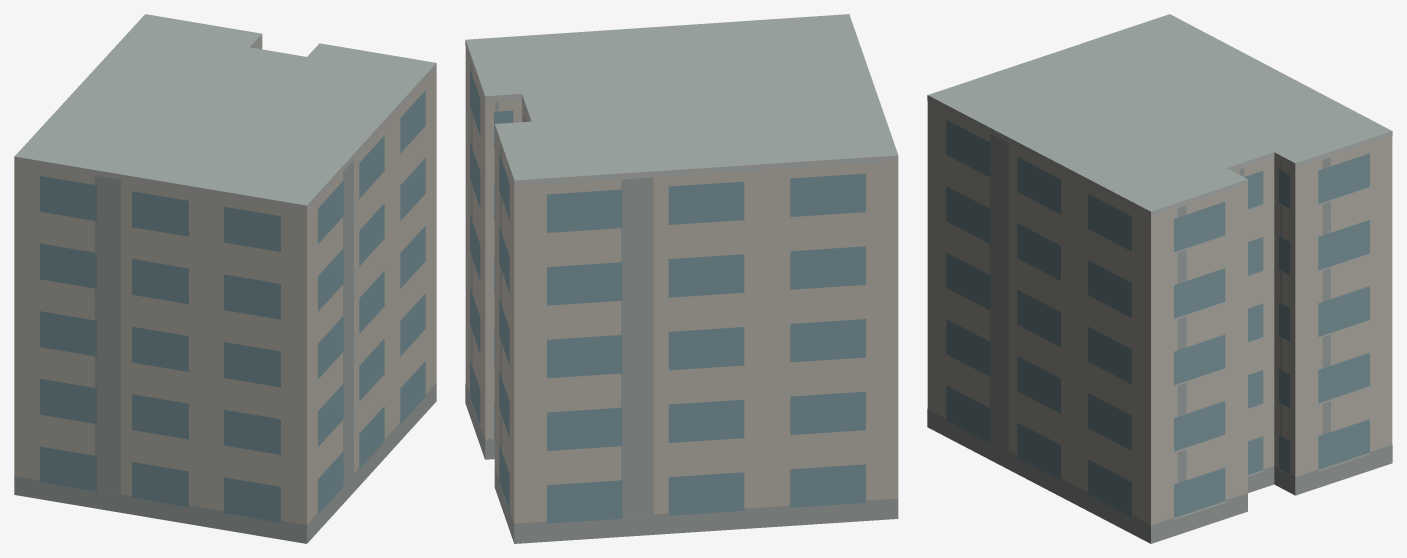
Rendered from survey-upis-32780488.glb.
3 renders of one model, left to right at view 1: azimuth 30°, elevation 25°; view 2: azimuth 150°, elevation 25°; view 3: azimuth 270°, elevation 25°, orthographic. The views are drawn at different scales.
Visible parts, largest first — view 1: survey-upis-32780488.tmp; view 2: survey-upis-32780488.tmp; view 3: survey-upis-32780488.tmp.
Part boxes in pixels (<box>): survey-upis-32780488.tmp: <box>14,14,436,543</box>; survey-upis-32780488.tmp: <box>465,14,898,543</box>; survey-upis-32780488.tmp: <box>927,14,1392,543</box>.
Size of the model in its own units: 18.58 by 14.55 by 18.46.
